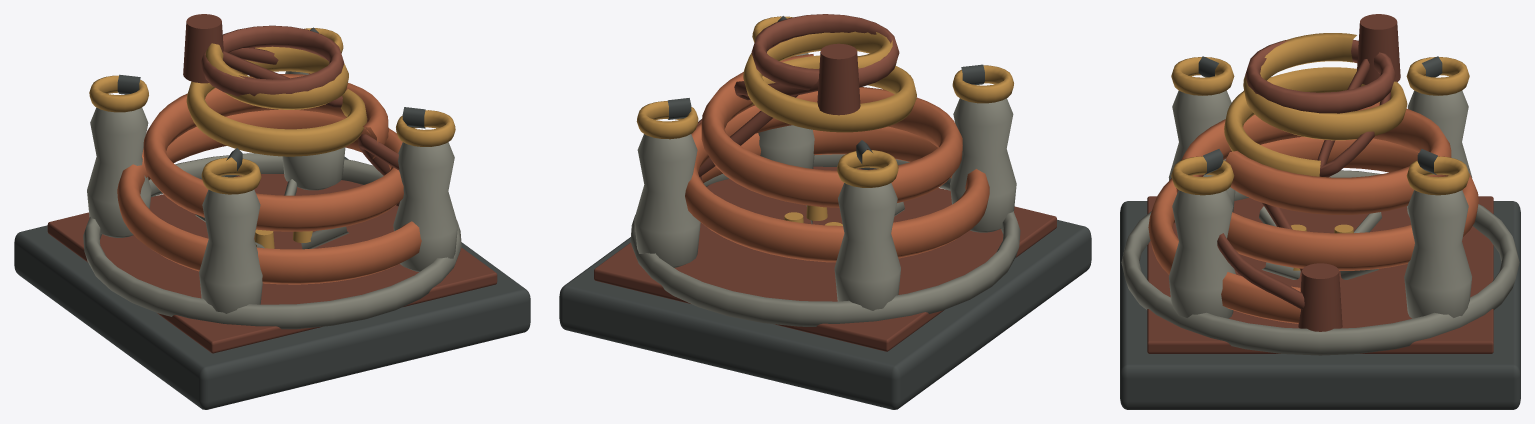
Rendered from extra_arcane_coil.glb.
3 views of the same model, side by side, from view 1: azimuth 30°, elevation 25°; view 2: azimuth 150°, elevation 25°; view 3: azimuth 270°, elevation 25° (orthographic). The views are drawn at different scales.
Parts seen in each view (by area): view 1: metal, plaster, wood; view 2: metal, plaster, wood; view 3: metal, plaster, wood.
Boxes of the visible parts, box(x1,y1,x2,y2) form: metal: box(14, 14, 530, 409); plaster: box(87, 71, 457, 313); wood: box(200, 25, 344, 96); metal: box(559, 16, 1091, 409); plaster: box(634, 53, 1016, 310); wood: box(751, 14, 899, 90); metal: box(1120, 14, 1520, 409); plaster: box(1168, 90, 1472, 318); wood: box(1245, 39, 1395, 113).
Bounding box in the file's own units: 1.4 × 1.1 × 1.4.
